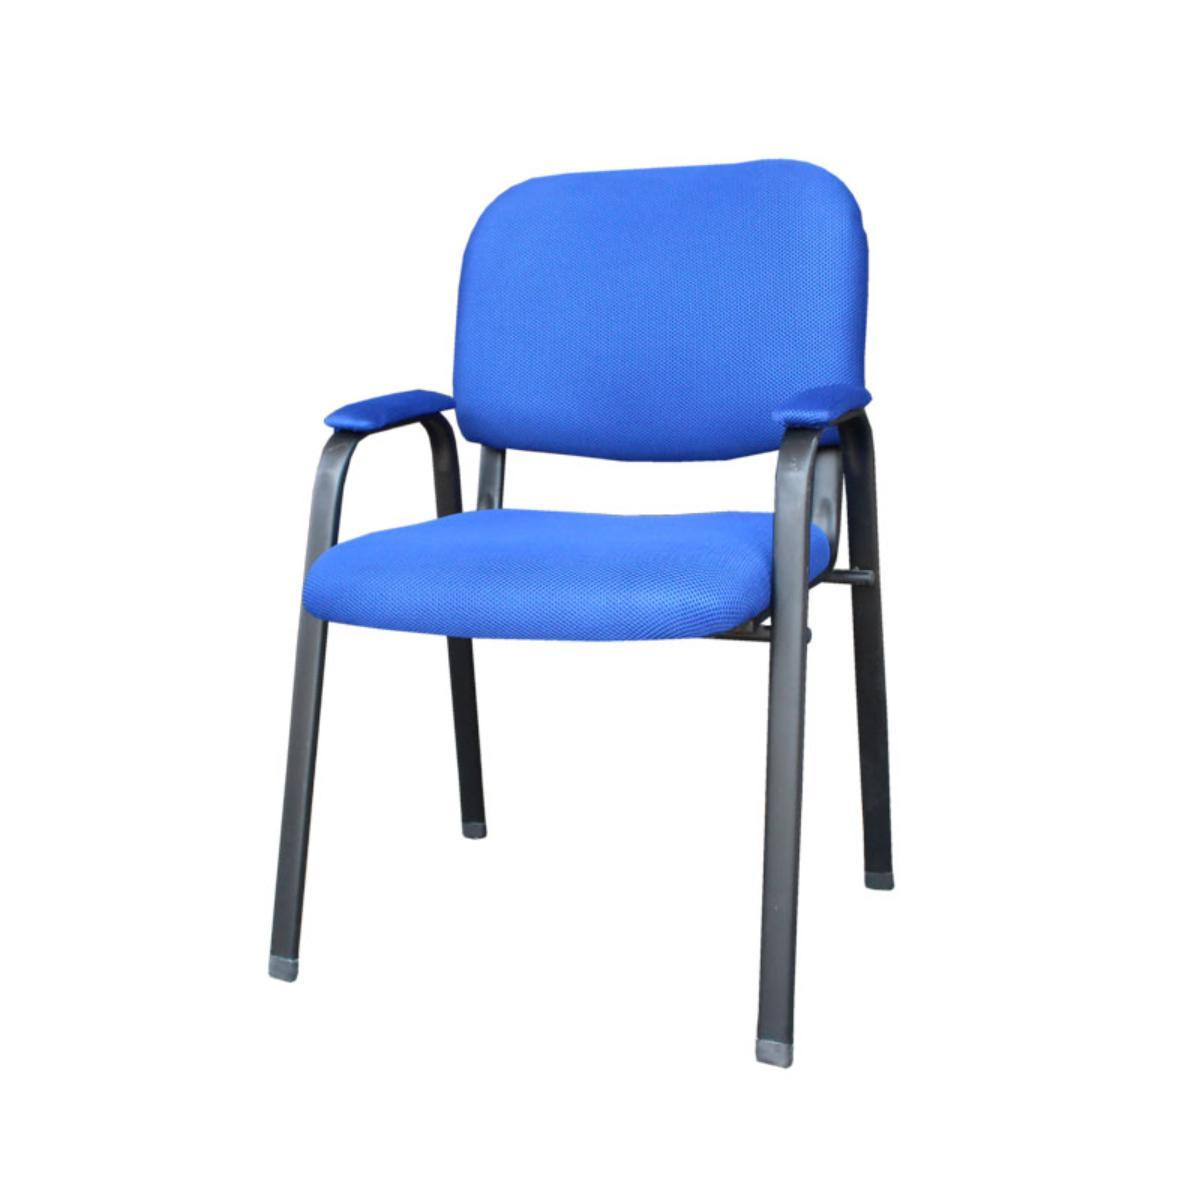Chair: (267, 159, 895, 1071)
